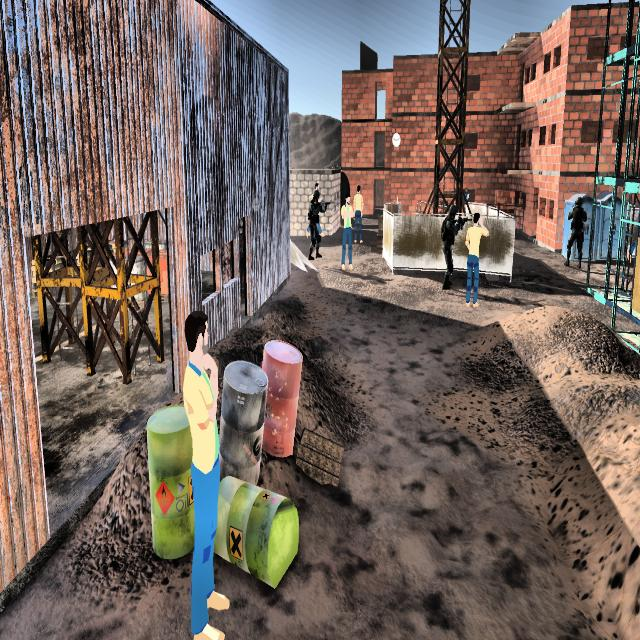bad: (434, 198, 464, 298), (562, 196, 587, 268), (309, 192, 323, 260)
good: (171, 298, 253, 640), (466, 209, 486, 315), (339, 190, 356, 268), (351, 175, 366, 237)
